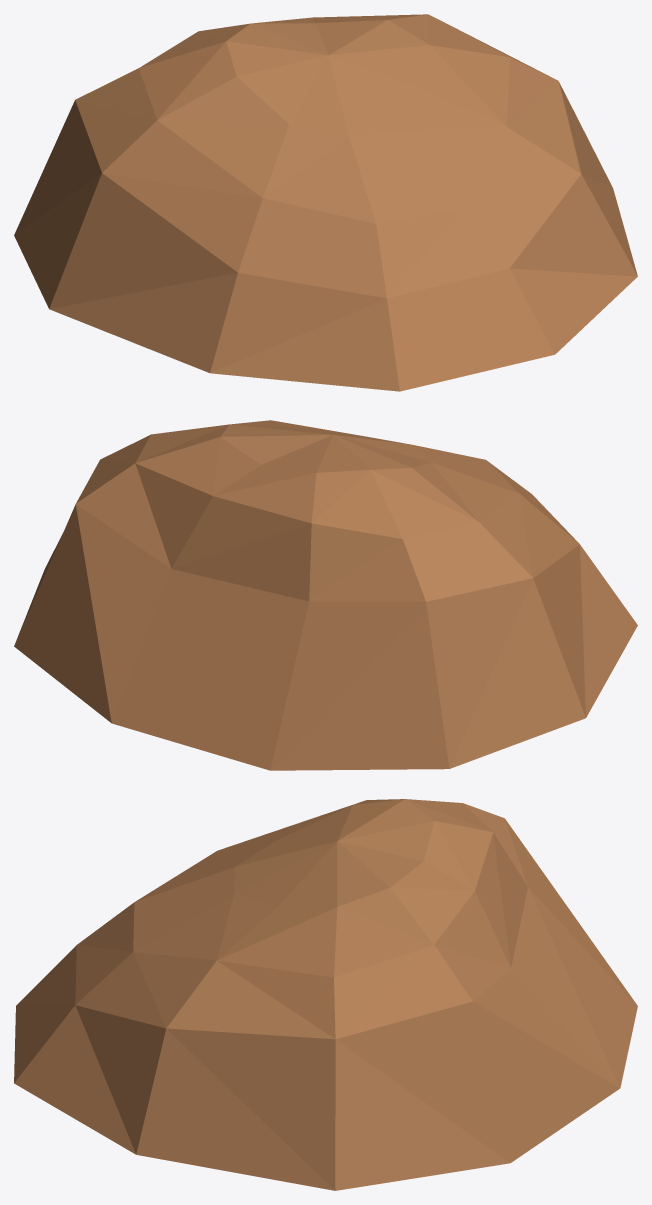
The model's file is Stone_7.fbx.
3 views of the same model, one above another, from view 1: azimuth 30°, elevation 25°; view 2: azimuth 150°, elevation 25°; view 3: azimuth 270°, elevation 25° (orthographic). The views are drawn at different scales.
Parts seen in each view (by area): view 1: Stone_7; view 2: Stone_7; view 3: Stone_7.
Boxes of the visible parts, <box> form: Stone_7: <box>14,14,637,391</box>; Stone_7: <box>14,420,637,770</box>; Stone_7: <box>14,799,637,1190</box>.
Bounding box in the file's own units: 121 × 116 × 44.09.
